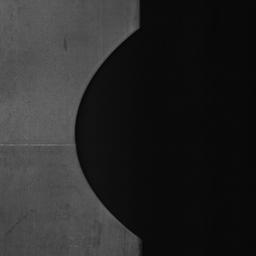Crescent gap: (75, 28, 139, 237)
